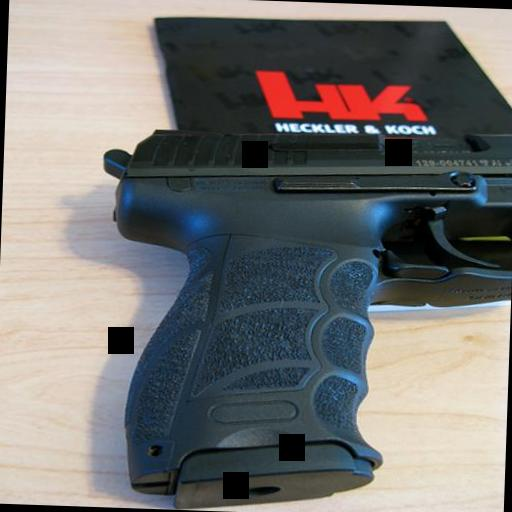Handgun: (88, 116, 512, 505)
